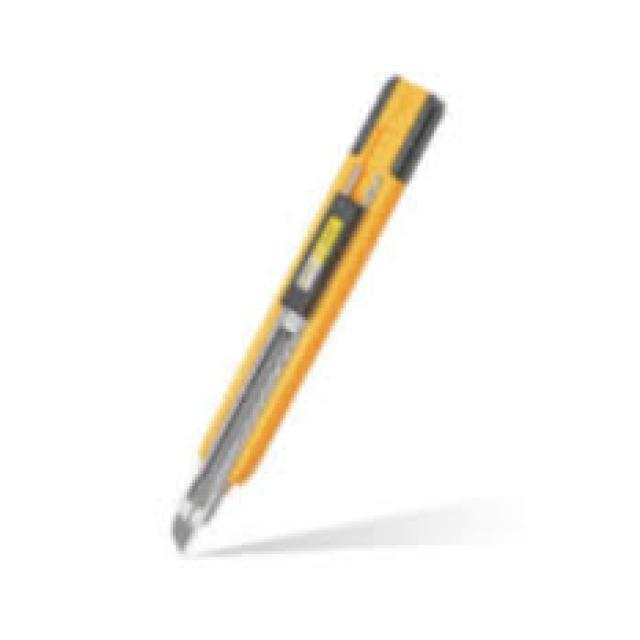cutter: (156, 68, 460, 566)
